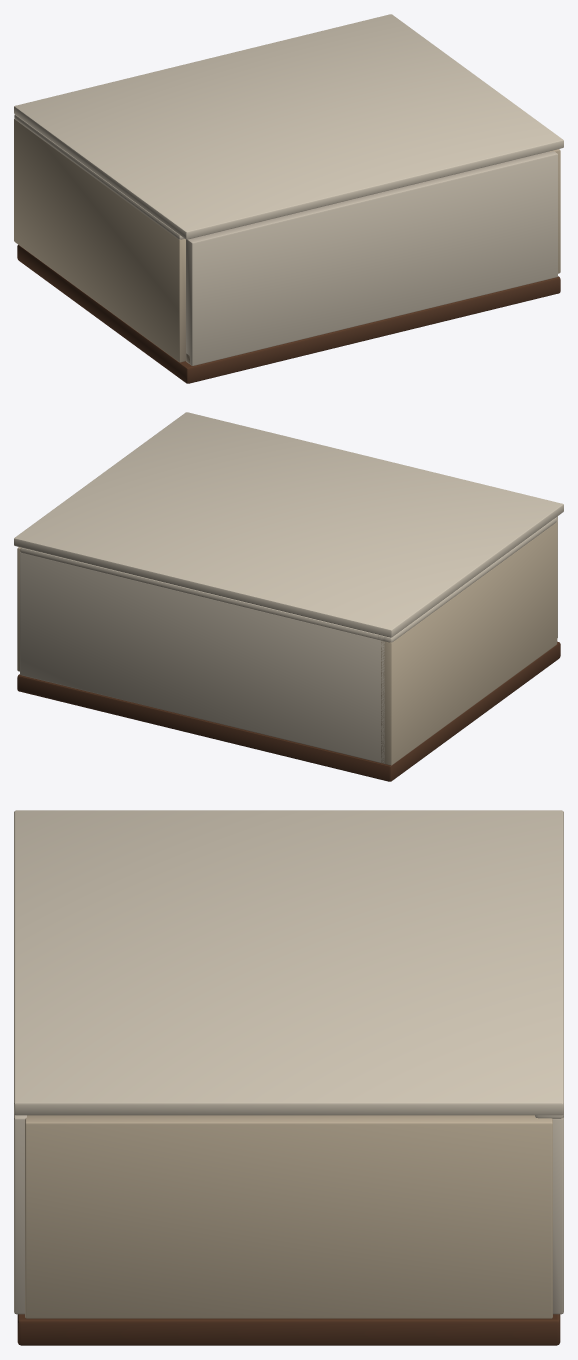
Rendered from home-interior.glb.
3 renders of one model, top to bottom at view 1: azimuth 30°, elevation 25°; view 2: azimuth 150°, elevation 25°; view 3: azimuth 270°, elevation 25°, orthographic. The views are drawn at different scales.
Parts seen in each view (by area): view 1: Occluder_Ceiling, Occluder_WallSouth, Room_Shell; view 2: Room_Shell, Occluder_Ceiling; view 3: Occluder_Ceiling, Occluder_WallEast, Room_Shell, Occluder_WallSouth.
Boxes of the visible parts, left/top/right/bottom form: Occluder_Ceiling: left=14, top=14, right=563, bottom=239; Occluder_WallSouth: left=186, top=151, right=557, bottom=365; Room_Shell: left=14, top=114, right=560, bottom=383; Room_Shell: left=17, top=517, right=560, bottom=781; Occluder_Ceiling: left=14, top=412, right=563, bottom=637; Occluder_Ceiling: left=14, top=810, right=563, bottom=1115; Occluder_WallEast: left=25, top=1115, right=552, bottom=1318; Room_Shell: left=17, top=1114, right=563, bottom=1345; Occluder_WallSouth: left=14, top=1114, right=26, bottom=1314.
Size of the model in its own units: 9.6 by 3.74 by 7.6.
